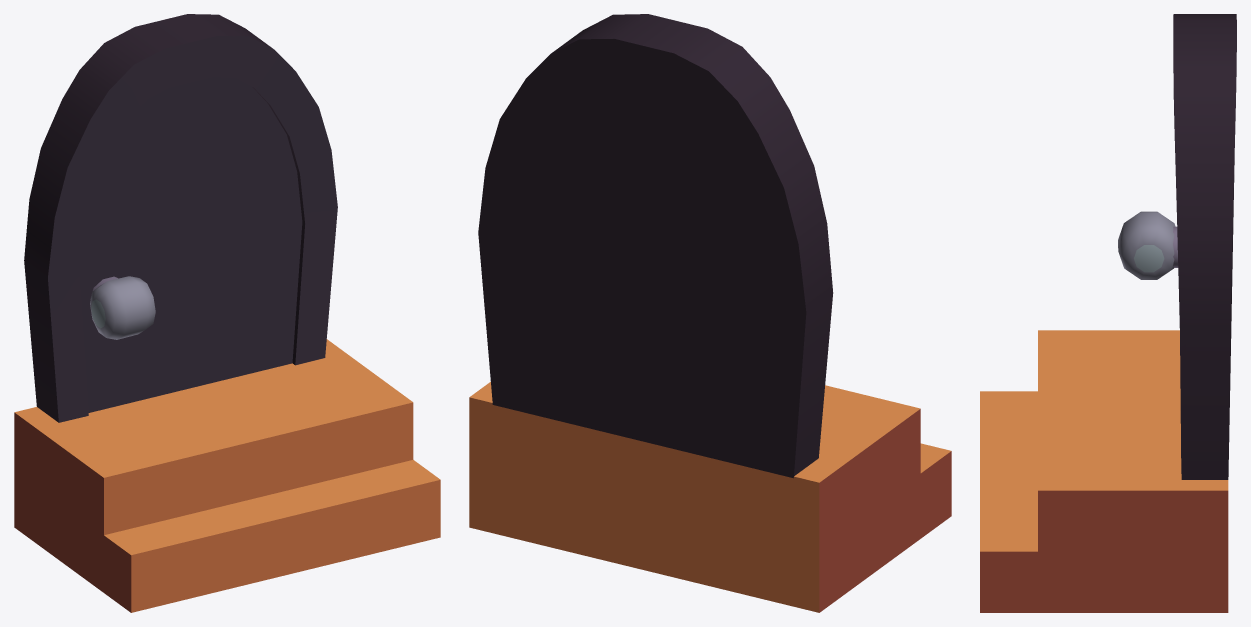
File: Door03_Black_Wood.glb
3 views of the same model, side by side, from view 1: azimuth 30°, elevation 25°; view 2: azimuth 150°, elevation 25°; view 3: azimuth 270°, elevation 25° (orthographic). The views are drawn at different scales.
Visible parts, largest first — view 1: Door03_Black_Wood; view 2: Door03_Black_Wood; view 3: Door03_Black_Wood.
Part boxes in pixels (x1,y1,x2,y2): Door03_Black_Wood: (14,14,440,612); Door03_Black_Wood: (469,14,951,612); Door03_Black_Wood: (980,14,1236,612).
Size of the model in its own units: 0.9795 by 1.41 by 0.6625.
1 material, 1 textured.
